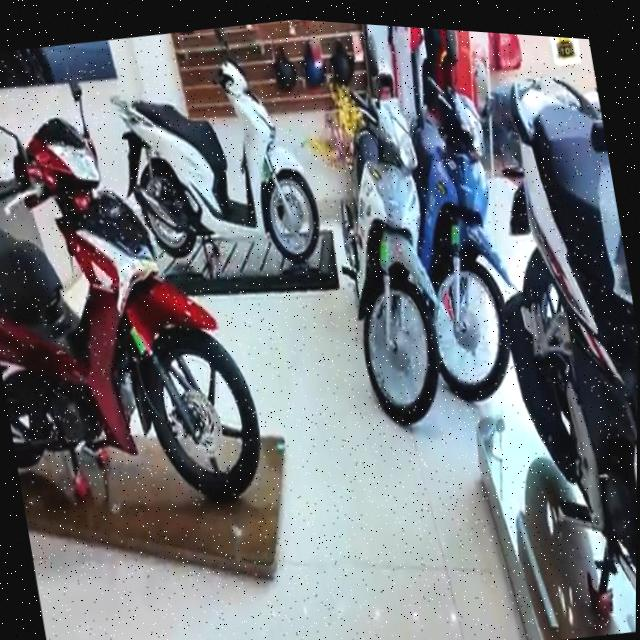motorcycle: (0, 51, 283, 546), (97, 32, 327, 292), (307, 76, 463, 441), (402, 68, 538, 412)
